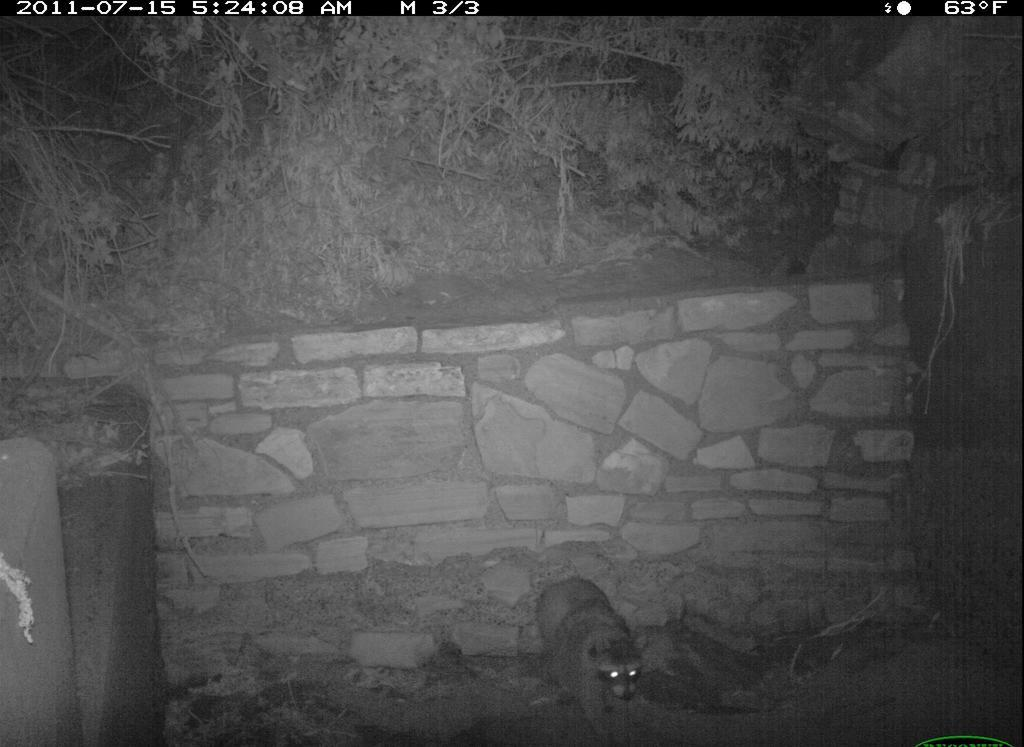raccoon: (518, 566, 680, 745)
